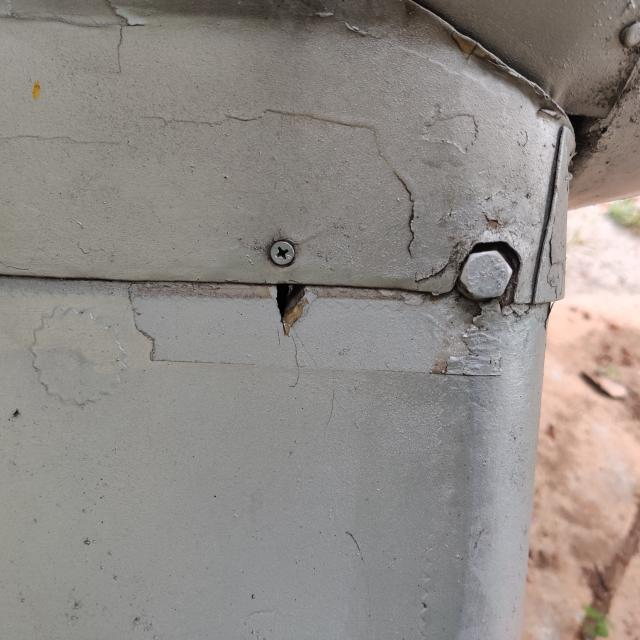crack: (241, 260, 344, 356)
